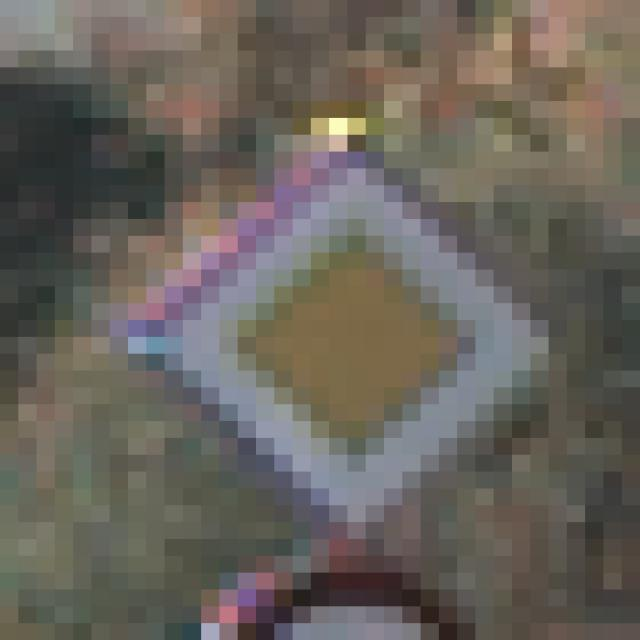Main Road: (111, 85, 531, 540)
